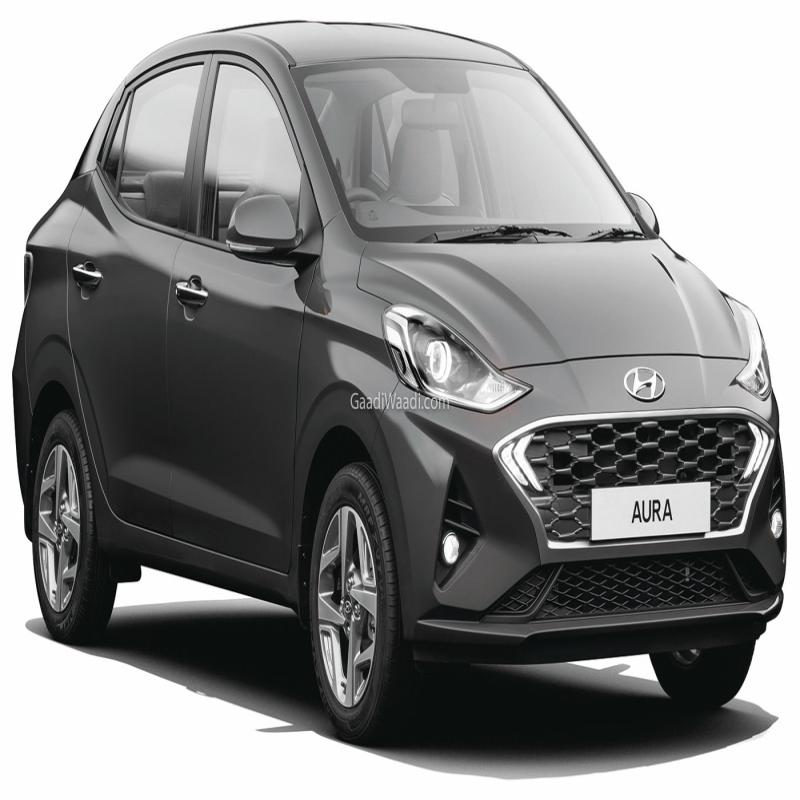car: (3, 10, 800, 764)
